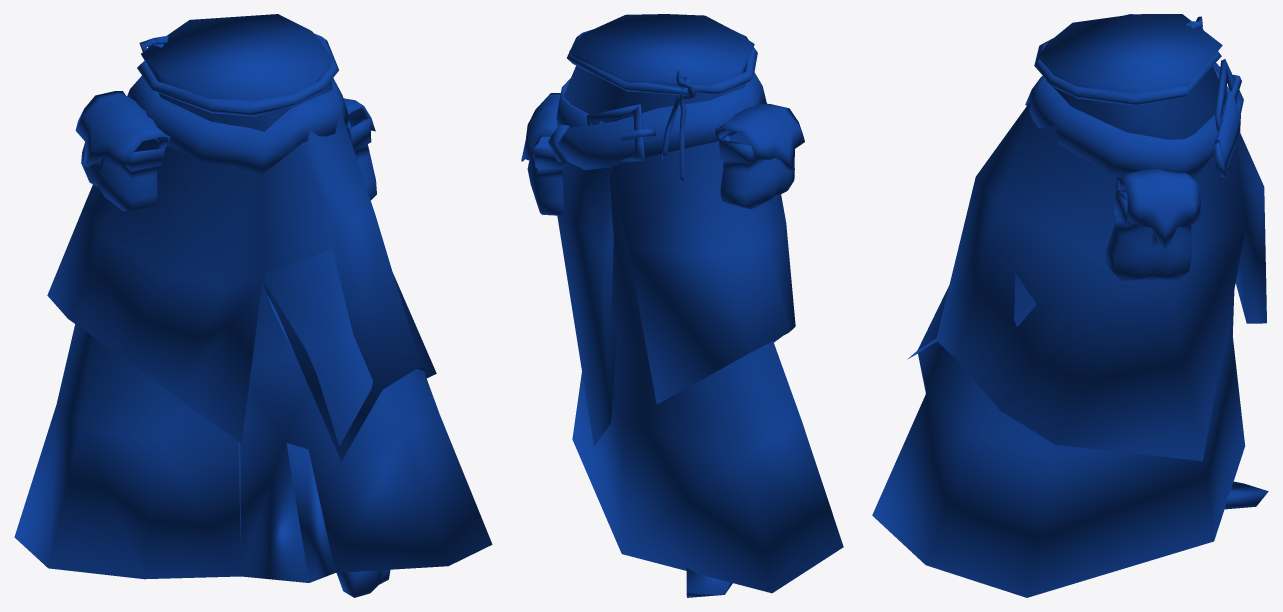
Rendered from bot_000032.obj.
3 renders of one model, left to right at view 1: azimuth 30°, elevation 25°; view 2: azimuth 150°, elevation 25°; view 3: azimuth 270°, elevation 25°, orthographic. The views are drawn at different scales.
Visible parts, largest first — view 1: Wizard.001_Plane.001; view 2: Wizard.001_Plane.001; view 3: Wizard.001_Plane.001.
Boxes of the visible parts, x1=… form: Wizard.001_Plane.001: x1=14, y1=14, x2=492, y2=597; Wizard.001_Plane.001: x1=521, y1=14, x2=843, y2=597; Wizard.001_Plane.001: x1=872, y1=14, x2=1268, y2=597.
Size of the model in its own units: 0.7724 by 1.12 by 0.7949.
